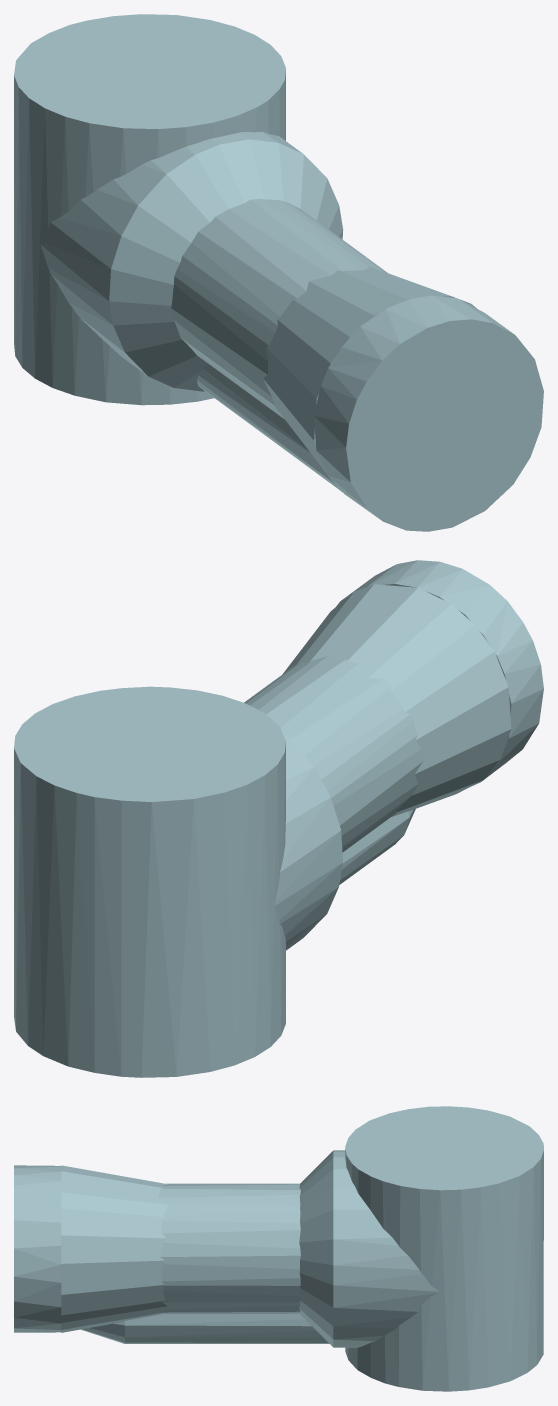
3 views of the same model, one above another, from view 1: azimuth 30°, elevation 25°; view 2: azimuth 150°, elevation 25°; view 3: azimuth 270°, elevation 25° (orthographic). The views are drawn at different scales.
Visible parts, largest first — view 1: s3; view 2: s3; view 3: s3.
Boxes of the visible parts, left/top/right/bottom form: s3: left=14, top=14, right=543, bottom=531; s3: left=14, top=560, right=543, bottom=1077; s3: left=14, top=1106, right=543, bottom=1391.
Bounding box in the file's own units: 0.143 × 0.16 × 0.3815.
